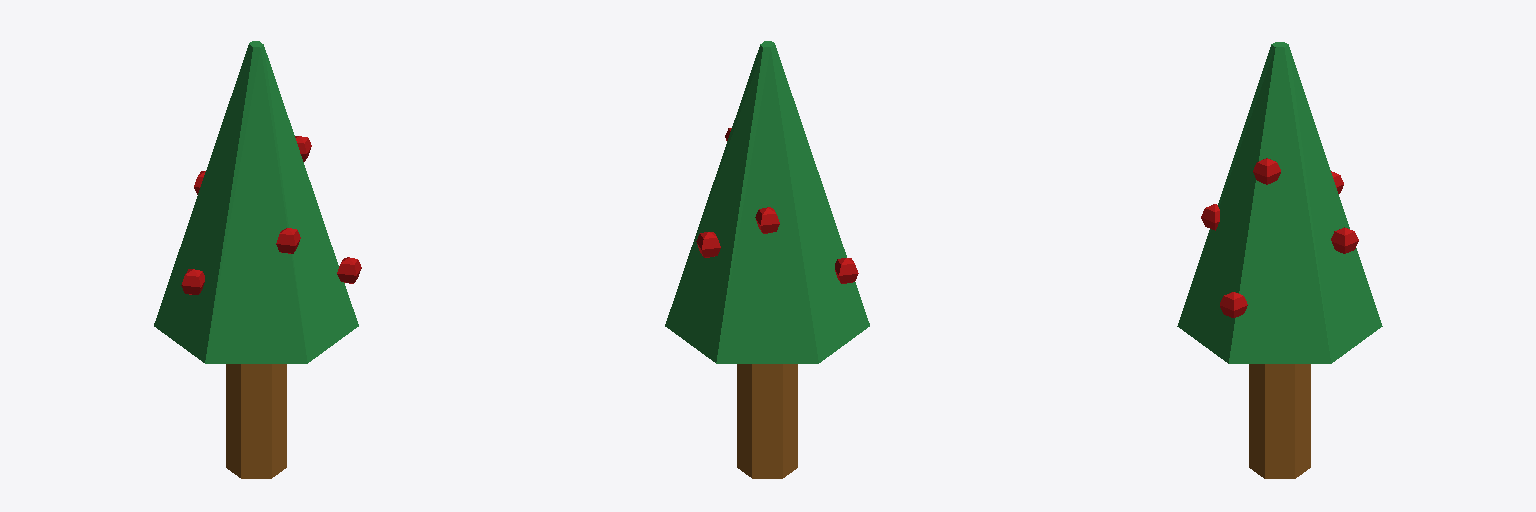
Rendered from newscene.obj.
3 views of the same model, side by side, from view 1: azimuth 30°, elevation 25°; view 2: azimuth 150°, elevation 25°; view 3: azimuth 270°, elevation 25° (orthographic).
Parts seen in each view (by area): view 1: cylinder98, sphere102; view 2: cylinder98, sphere102; view 3: cylinder98, sphere102.
Boxes of the visible parts, <box> form: cylinder98: <box>154,41,358,478</box>; sphere102: <box>181,136,361,294</box>; cylinder98: <box>665,41,869,478</box>; sphere102: <box>696,128,858,283</box>; cylinder98: <box>1177,42,1382,478</box>; sphere102: <box>1201,158,1358,317</box>.
Size of the model in its own units: 136 by 332 by 146.